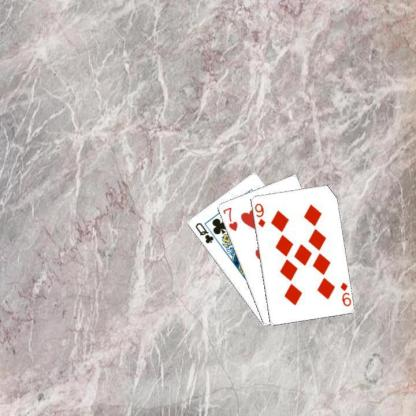7H: (220, 205, 239, 232)
9D: (252, 201, 266, 228), (338, 280, 352, 307)
QC: (192, 220, 215, 245)
